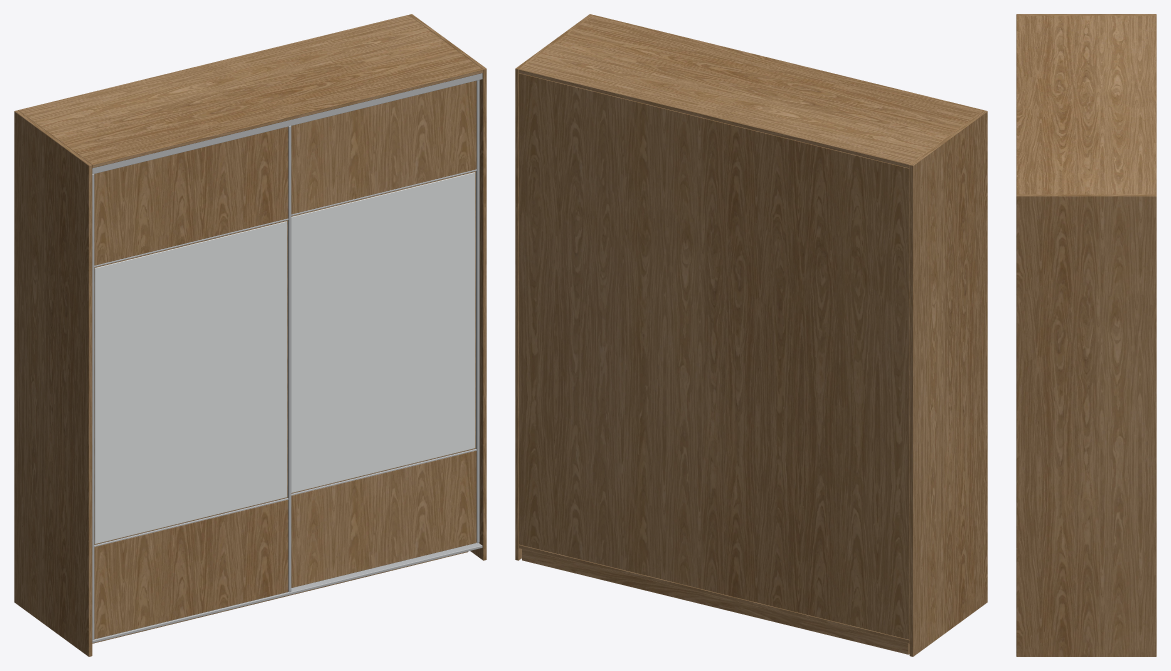
The model's file is armario_corredero_espejo_200.glb.
3 renders of one model, left to right at view 1: azimuth 30°, elevation 25°; view 2: azimuth 150°, elevation 25°; view 3: azimuth 270°, elevation 25°, orthographic. The views are drawn at different scales.
Parts seen in each view (by area): view 1: armario_corredero_espejo_200; view 2: armario_corredero_espejo_200; view 3: armario_corredero_espejo_200.
Boxes of the visible parts, box(x1,y1,x2,y2) form: armario_corredero_espejo_200: box(14, 14, 486, 656); armario_corredero_espejo_200: box(515, 14, 987, 656); armario_corredero_espejo_200: box(1016, 14, 1156, 656).
Bounding box in the file's own units: 2 × 2.36 × 0.65.
Materials: 3 (1 with a texture image).
